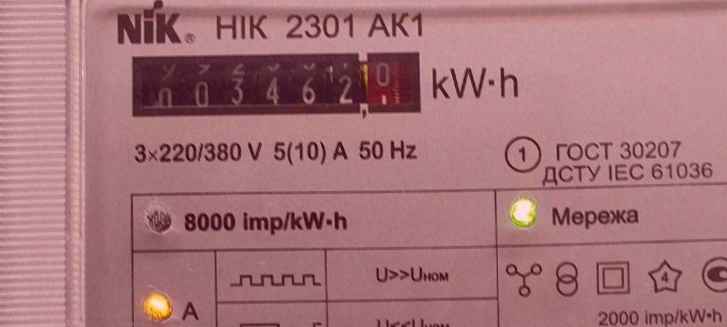0: (193, 77, 212, 106), (375, 59, 392, 88), (155, 84, 175, 107)
2: (337, 72, 356, 104)
3: (228, 74, 247, 107)
4: (265, 73, 283, 105)
6: (299, 72, 320, 107)
9: (158, 62, 178, 81)
screen: (120, 39, 433, 134)
